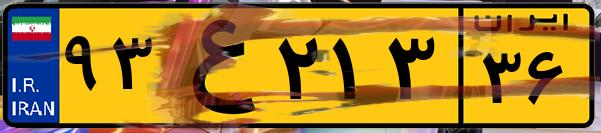1: (330, 28, 385, 110)
2: (270, 28, 330, 110)
3: (385, 28, 445, 110), (475, 38, 525, 113), (110, 28, 158, 98)
6: (525, 38, 570, 115)
9: (57, 26, 110, 100)
ع: (158, 12, 270, 120)
